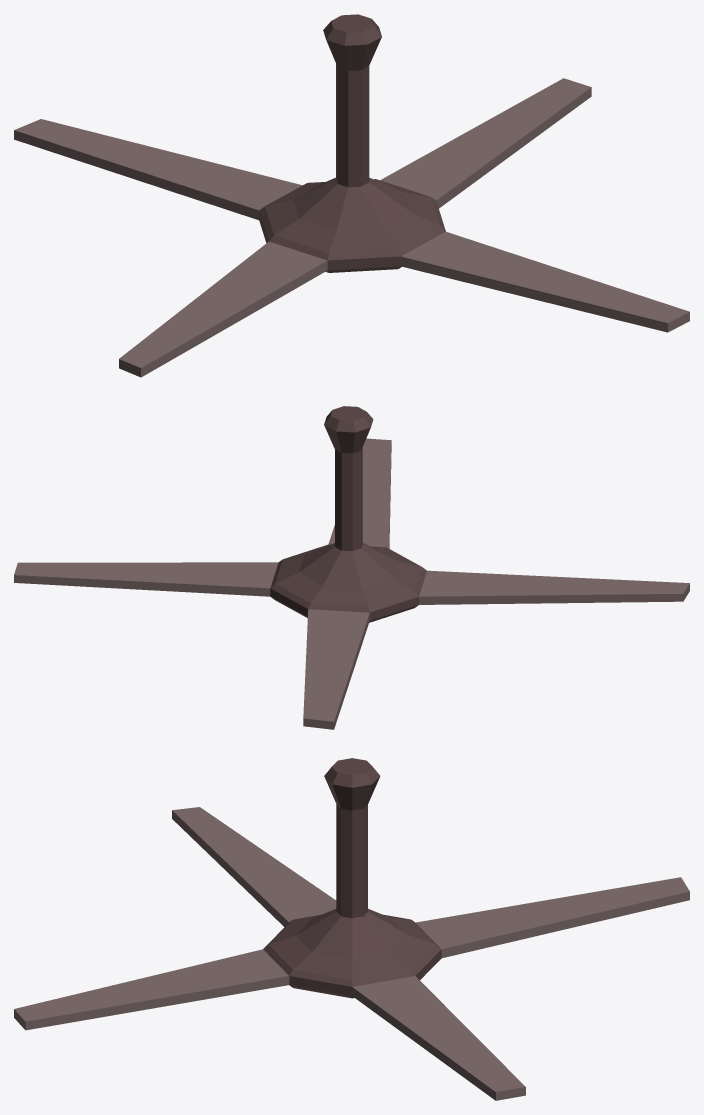
Rendered from ceilingFan.fbx.
3 renders of one model, top to bottom at view 1: azimuth 30°, elevation 25°; view 2: azimuth 150°, elevation 25°; view 3: azimuth 270°, elevation 25°, orthographic. The views are drawn at different scales.
Parts seen in each view (by area): view 1: ceilingFan; view 2: ceilingFan; view 3: ceilingFan.
Part boxes in pixels (x1,y1,x2,y2): ceilingFan: (14, 14, 689, 377); ceilingFan: (14, 406, 689, 729); ceilingFan: (14, 758, 689, 1100).
Bounding box in the file's own units: 15.86 × 5.09 × 15.88.
